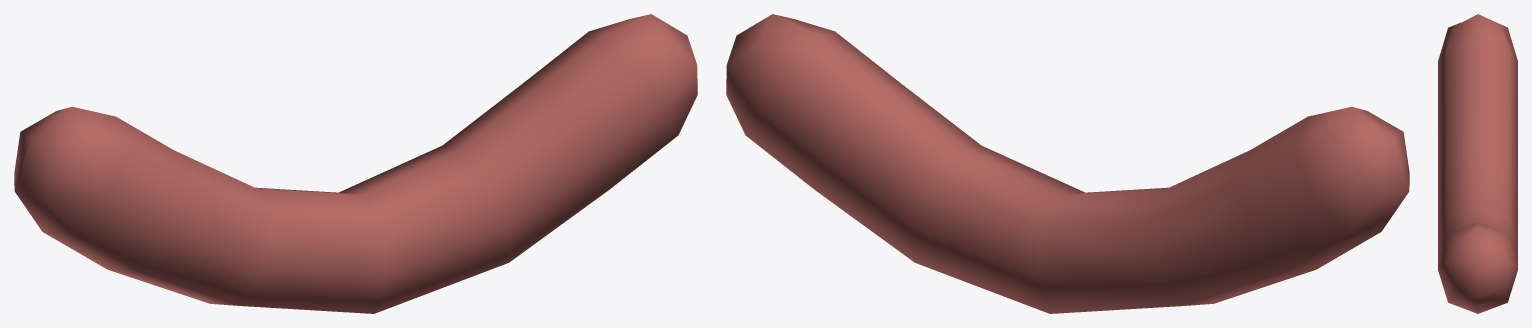
Rendered from agiz03.fbx.
3 views of the same model, side by side, from view 1: azimuth 30°, elevation 25°; view 2: azimuth 150°, elevation 25°; view 3: azimuth 270°, elevation 25° (orthographic). The views are drawn at different scales.
Visible parts, largest first — view 1: agiz03; view 2: agiz03; view 3: agiz03.
Part boxes in pixels (x1=…): agiz03: x1=14, y1=14, x2=697, y2=313; agiz03: x1=726, y1=14, x2=1409, y2=313; agiz03: x1=1438, y1=14, x2=1517, y2=313.
Size of the model in its own units: 0.6405 by 0.2447 by 0.0995.
